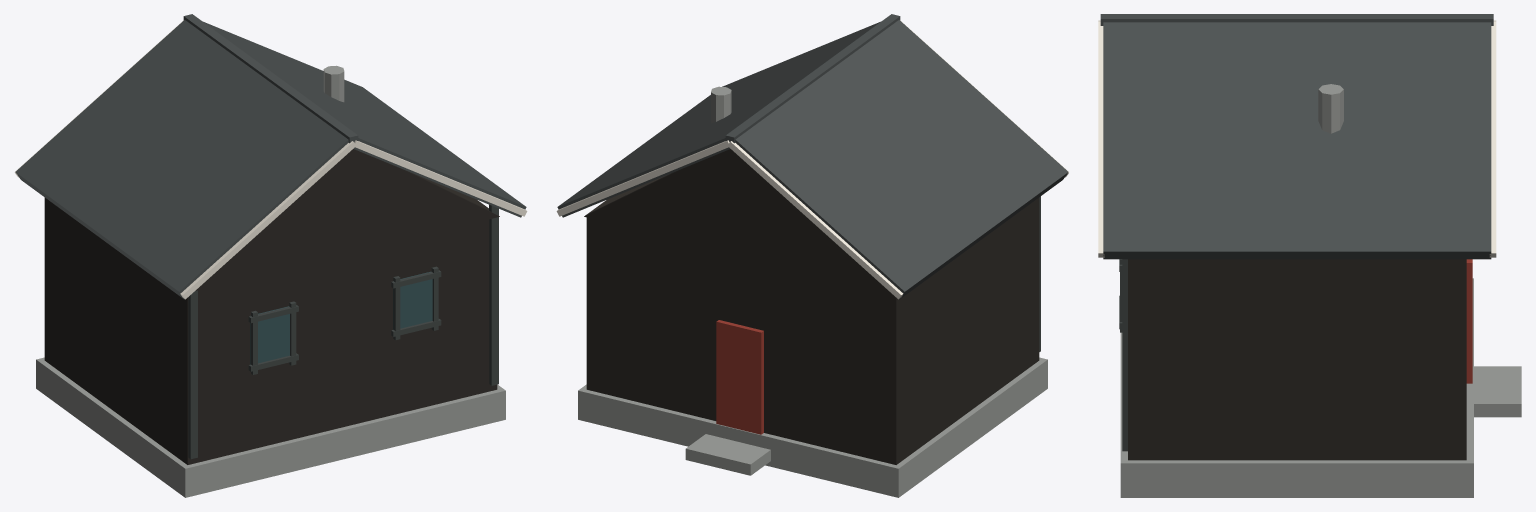
The model's file is norway-house-charcoal-dark_lod0.glb.
The picture shows the model from 3 angles, left to right: view 1: azimuth 30°, elevation 25°; view 2: azimuth 150°, elevation 25°; view 3: azimuth 270°, elevation 25°; orthographic projection. The views are drawn at different scales.
Visible parts, largest first — view 1: RF_House_Walls, RF_House_RoofA, RF_House_Gables, RF_House_Foundation, RF_House_RoofB, RF_House_RidgeCap, RF_House_VergeLeftFront, RF_House_Corner.001, RF_House_Corner, RF_House_WindowRecess.001, RF_House_WindowRecess, RF_House_VergeRightFront (+1 smaller); view 2: RF_House_Walls, RF_House_RoofA, RF_House_Gables, RF_House_Foundation, RF_House_RoofB, RF_House_Door, RF_House_Threshold, RF_House_RidgeCap, RF_House_VergeLeftRear, RF_House_VergeRightRear, RF_House_Chimney; view 3: RF_House_RoofB, RF_House_Walls, RF_House_Foundation, RF_House_RidgeCap, RF_House_Threshold, RF_House_VergeRightRear, RF_House_VergeRightFront, RF_House_Chimney, RF_House_Corner.001, RF_House_Door.
Part boxes in pixels (left/top/right/bottom): RF_House_Walls: left=44, top=173, right=497, bottom=464; RF_House_RoofA: left=15, top=20, right=348, bottom=299; RF_House_Gables: left=195, top=149, right=499, bottom=290; RF_House_Foundation: left=36, top=357, right=505, bottom=497; RF_House_RoofB: left=203, top=21, right=526, bottom=217; RF_House_RidgeCap: left=183, top=14, right=358, bottom=143; RF_House_VergeLeftFront: left=180, top=141, right=355, bottom=299; RF_House_Corner.001: left=489, top=204, right=498, bottom=385; RF_House_Corner: left=188, top=290, right=197, bottom=459; RF_House_WindowRecess.001: left=393, top=271, right=432, bottom=329; RF_House_WindowRecess: left=250, top=306, right=289, bottom=364; RF_House_VergeRightFront: left=354, top=140, right=527, bottom=216; RF_House_Walls: left=586, top=173, right=1039, bottom=464; RF_House_RoofA: left=735, top=20, right=1068, bottom=299; RF_House_Gables: left=584, top=149, right=888, bottom=290; RF_House_Foundation: left=578, top=357, right=1047, bottom=497; RF_House_RoofB: left=557, top=21, right=880, bottom=217; RF_House_Door: left=716, top=320, right=763, bottom=434; RF_House_Threshold: left=685, top=434, right=770, bottom=475; RF_House_RidgeCap: left=725, top=14, right=900, bottom=143; RF_House_VergeLeftRear: left=728, top=141, right=903, bottom=299; RF_House_VergeRightRear: left=556, top=140, right=729, bottom=216; RF_House_Chimney: left=711, top=86, right=731, bottom=123; RF_House_RoofB: left=1103, top=22, right=1491, bottom=259; RF_House_Walls: left=1128, top=259, right=1466, bottom=460; RF_House_Foundation: left=1120, top=278, right=1473, bottom=497; RF_House_RidgeCap: left=1100, top=14, right=1493, bottom=25; RF_House_Threshold: left=1474, top=366, right=1521, bottom=417; RF_House_VergeRightRear: left=1489, top=22, right=1496, bottom=257; RF_House_VergeRightFront: left=1098, top=22, right=1104, bottom=257; RF_House_Chimney: left=1318, top=84, right=1343, bottom=133; RF_House_Corner.001: left=1122, top=259, right=1127, bottom=451; RF_House_Door: left=1466, top=259, right=1472, bottom=383.
Bounding box in the file's own units: 11.22 × 10.13 × 10.
